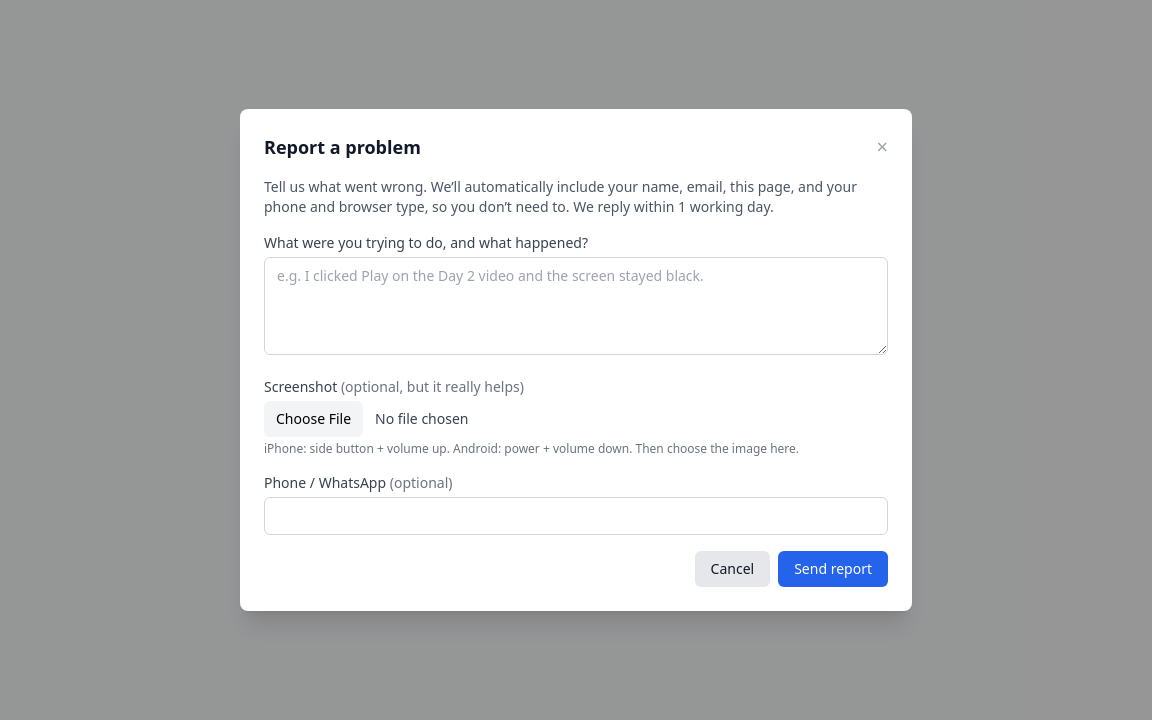
Test case: ReportProblemDialog › falls back to the support email address when sending fails
The width and height of the screenshot is (1152, 720).
Replace the text in the text box labelled "What were you trying to do, and what happened?" with "Nothing loads after I log in." at (576,306), box [264, 257, 888, 355]
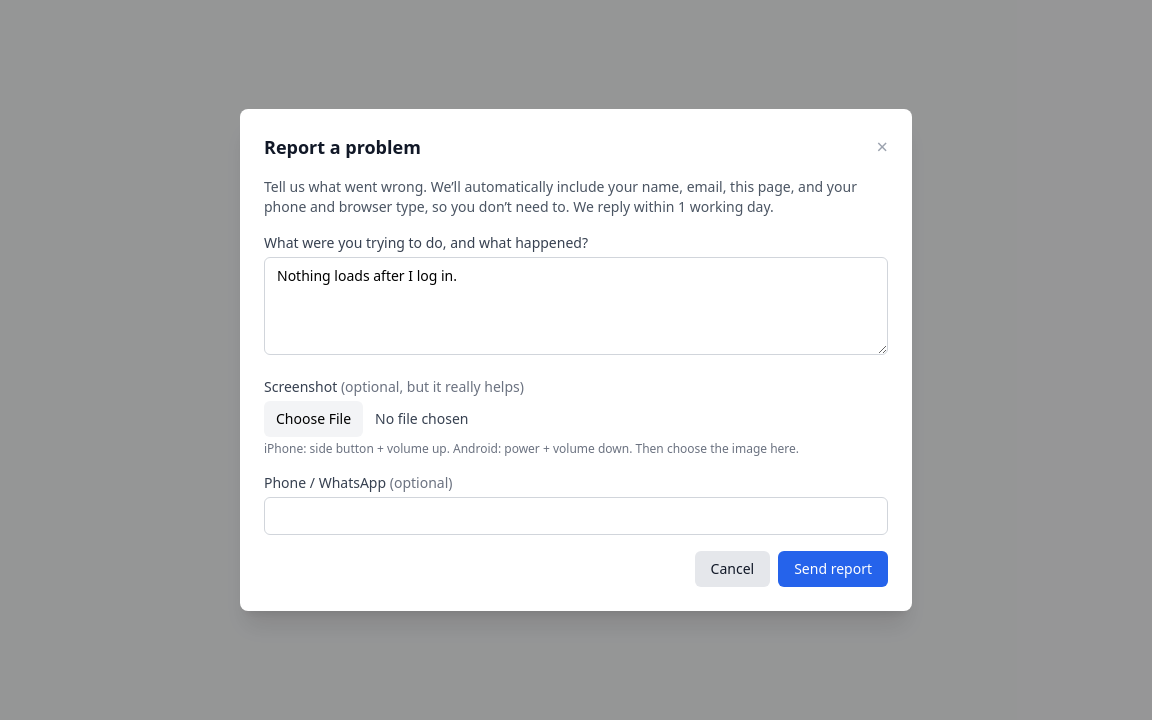
Click the button "Send report" at (833,569), box [778, 551, 888, 587]
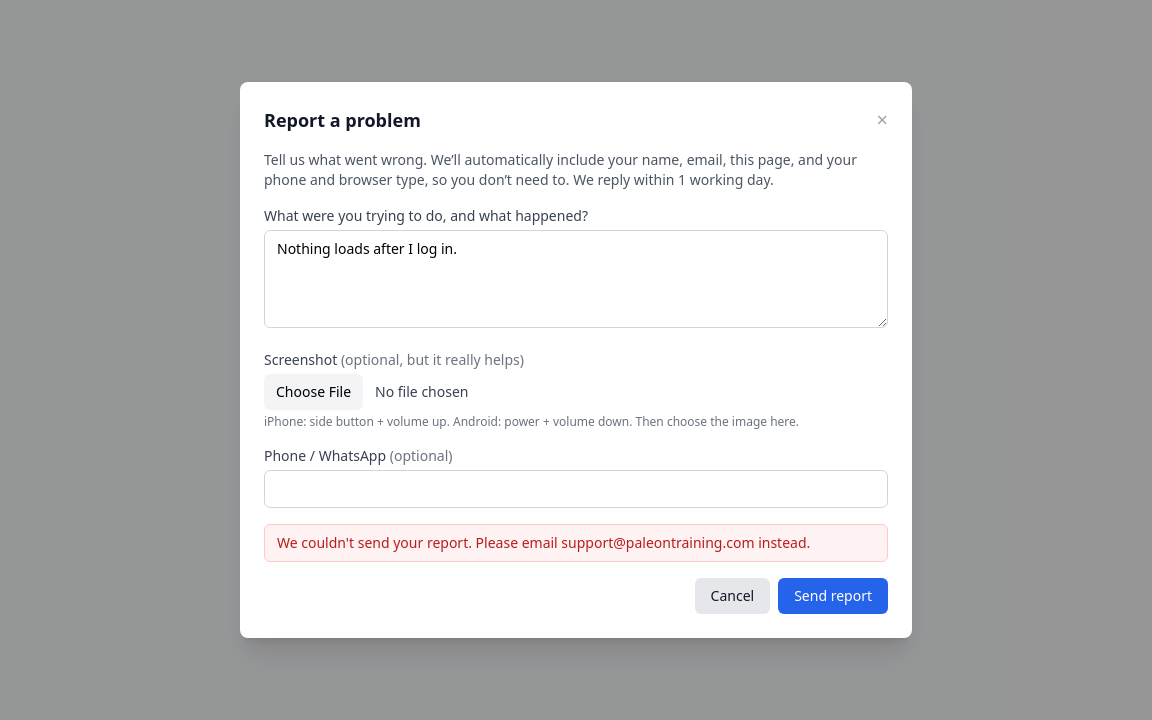
Check: the text "email support@paleontraining.com instead" is shown, box [277, 533, 810, 552]
